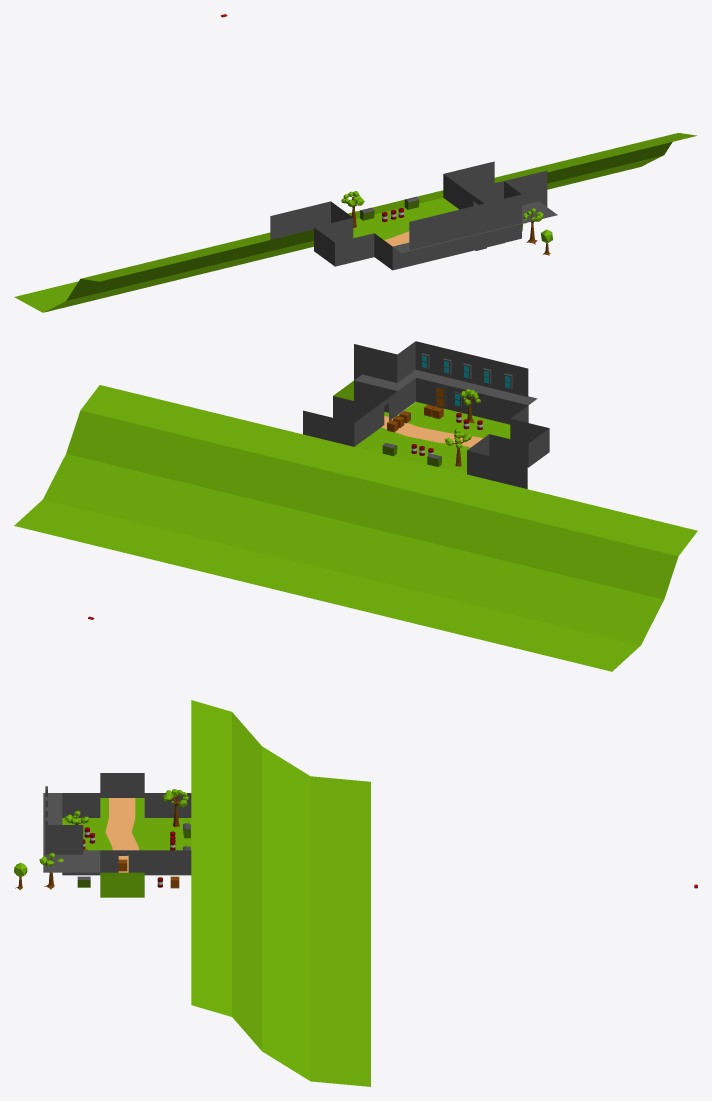
File: Map level 1.fbx
The picture shows the model from 3 angles, top to bottom: view 1: azimuth 30°, elevation 25°; view 2: azimuth 150°, elevation 25°; view 3: azimuth 270°, elevation 25°; orthographic projection. The views are drawn at different scales.
Parts seen in each view (by area): view 1: Plane.003, Plane.001, Plane.004, Plane.002; view 2: Plane.003, Plane.001, Plane.002, Plane.004; view 3: Plane.003, Plane.001, Plane.002, Plane.004.
Part boxes in pixels (left/top/right/bottom): Plane.003: left=14, top=133, right=696, bottom=312; Plane.001: left=270, top=161, right=503, bottom=269; Plane.004: left=409, top=170, right=547, bottom=265; Plane.002: left=392, top=200, right=557, bottom=270; Plane.003: left=14, top=381, right=697, bottom=671; Plane.001: left=303, top=396, right=549, bottom=488; Plane.002: left=354, top=370, right=537, bottom=424; Plane.004: left=354, top=341, right=528, bottom=396; Plane.003: left=62, top=700, right=370, bottom=1086; Plane.001: left=62, top=773, right=191, bottom=875; Plane.002: left=43, top=793, right=118, bottom=875; Plane.004: left=45, top=825, right=83, bottom=854.
Size of the model in its own units: 16358 by 3415 by 15494.
